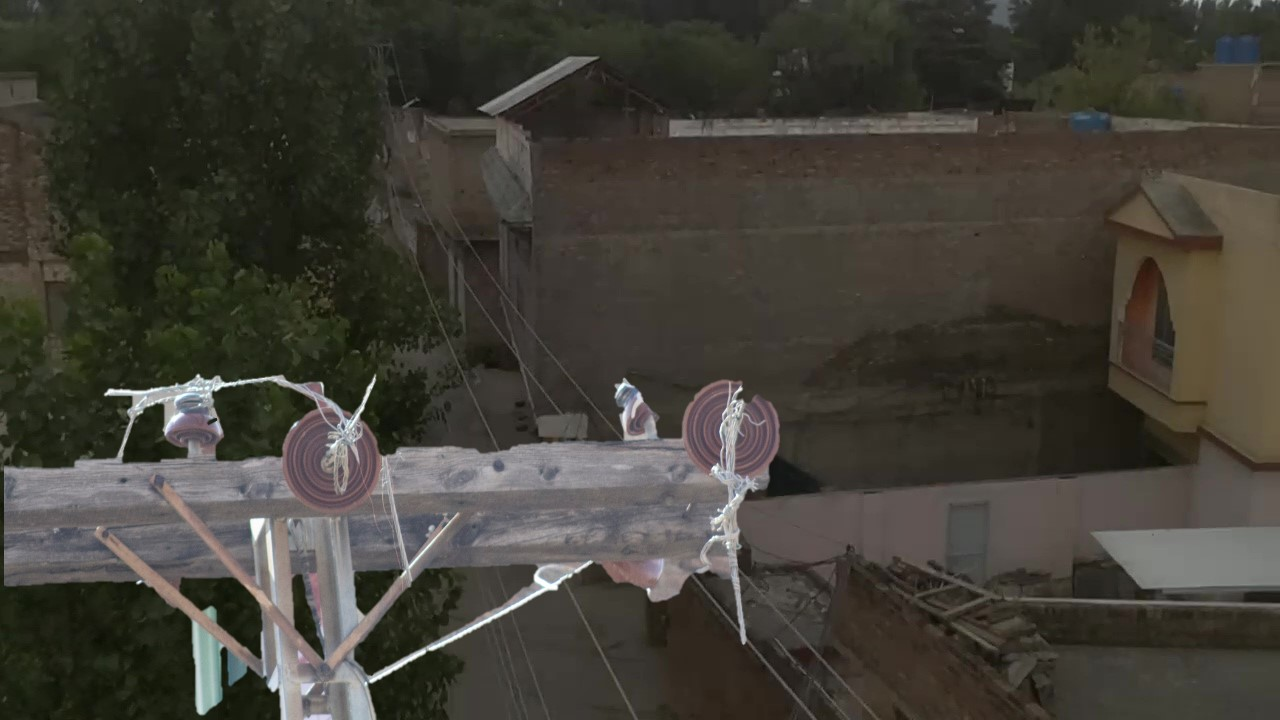defect_pin: (610, 371, 664, 449)
insulator_disc: (679, 369, 785, 485), (280, 399, 384, 514)
insulator_pin: (158, 384, 229, 453)
